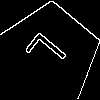L: (24, 29, 76, 80)
